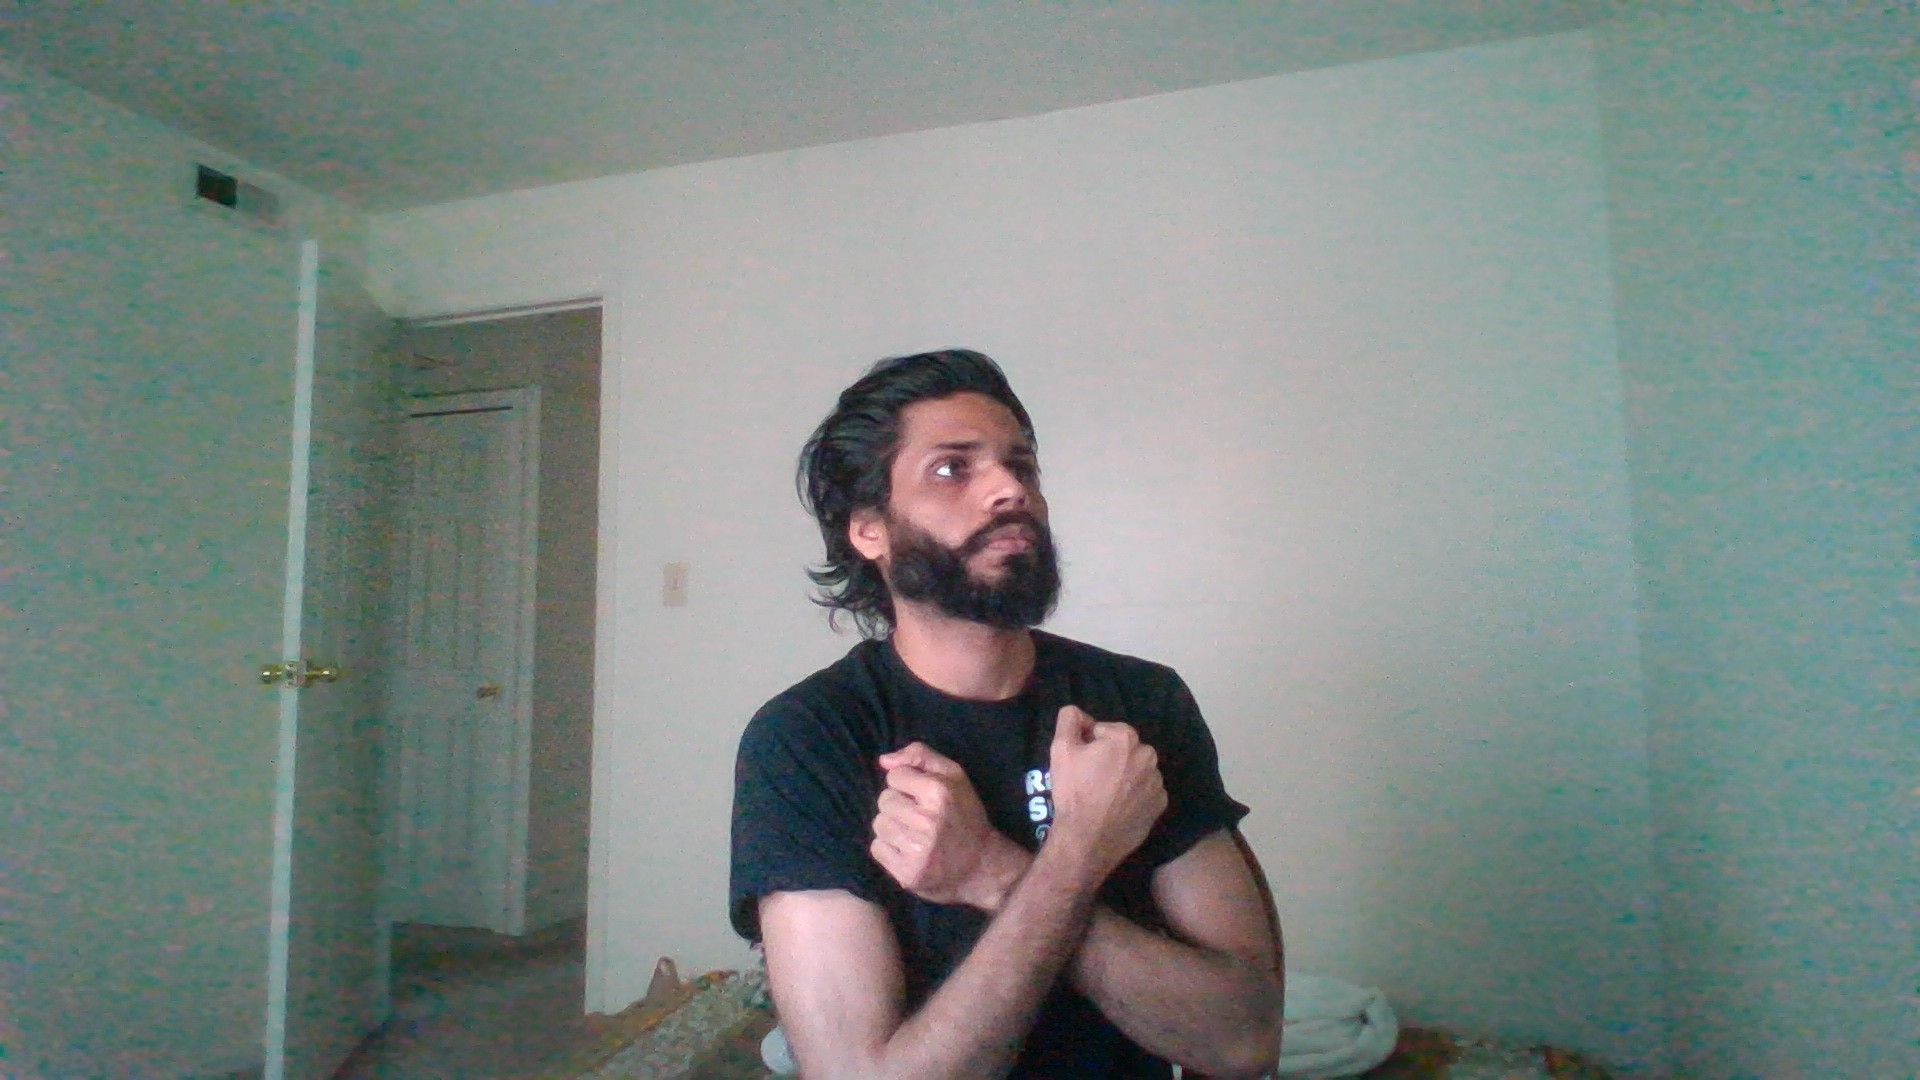Love: (839, 675, 1220, 1040)
